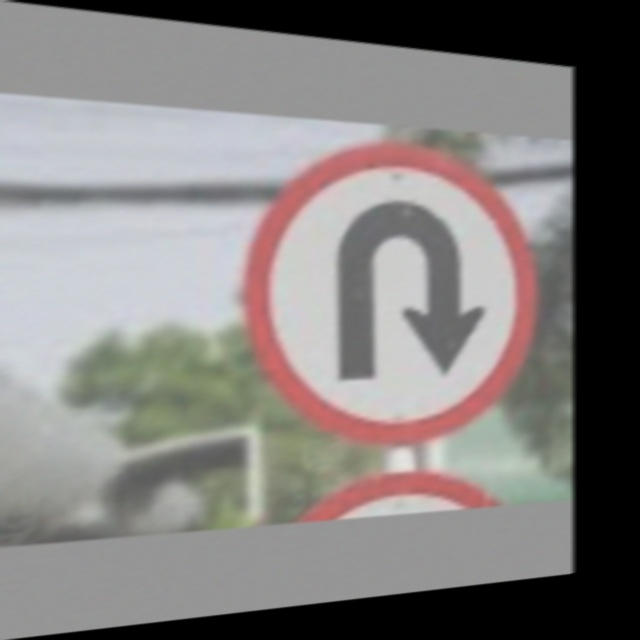U_Turn_Ahead: (248, 143, 534, 434)
